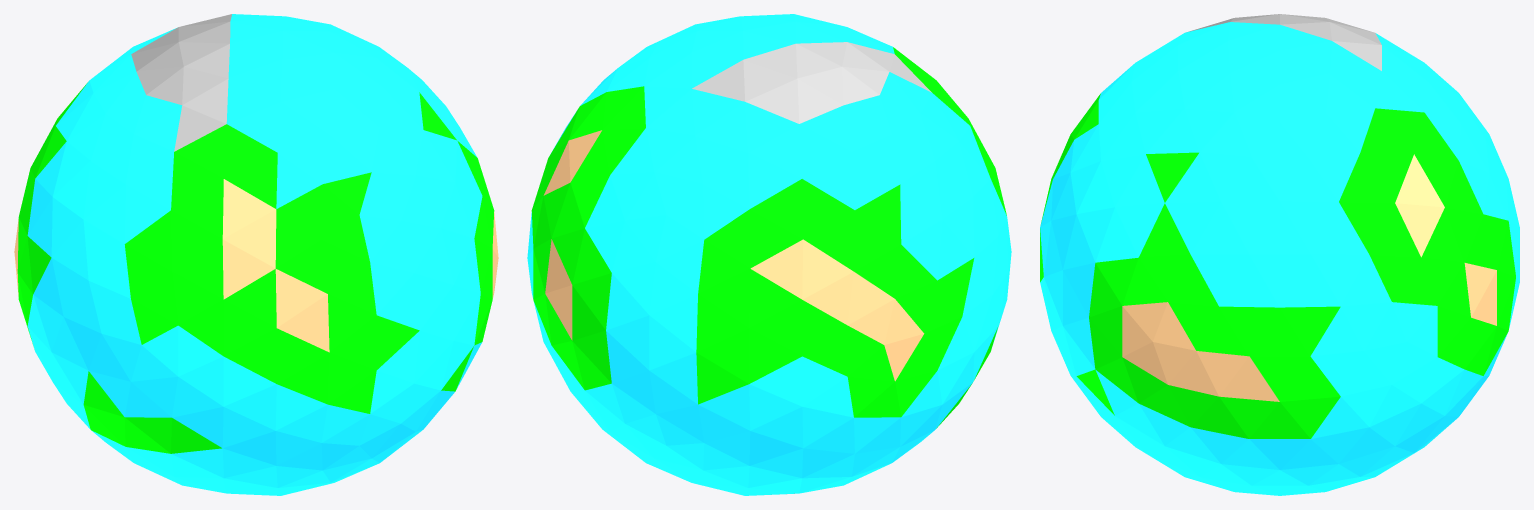
File: world with color.fbx
3 views of the same model, side by side, from view 1: azimuth 30°, elevation 25°; view 2: azimuth 150°, elevation 25°; view 3: azimuth 270°, elevation 25° (orthographic).
Parts seen in each view (by area): view 1: WorldModel; view 2: WorldModel; view 3: WorldModel.
Boxes of the visible parts, x1=… form: WorldModel: x1=14, y1=14, x2=498, y2=495; WorldModel: x1=527, y1=14, x2=1011, y2=495; WorldModel: x1=1040, y1=14, x2=1519, y2=495.
Size of the model in its own units: 1.98 by 1.98 by 1.98.
